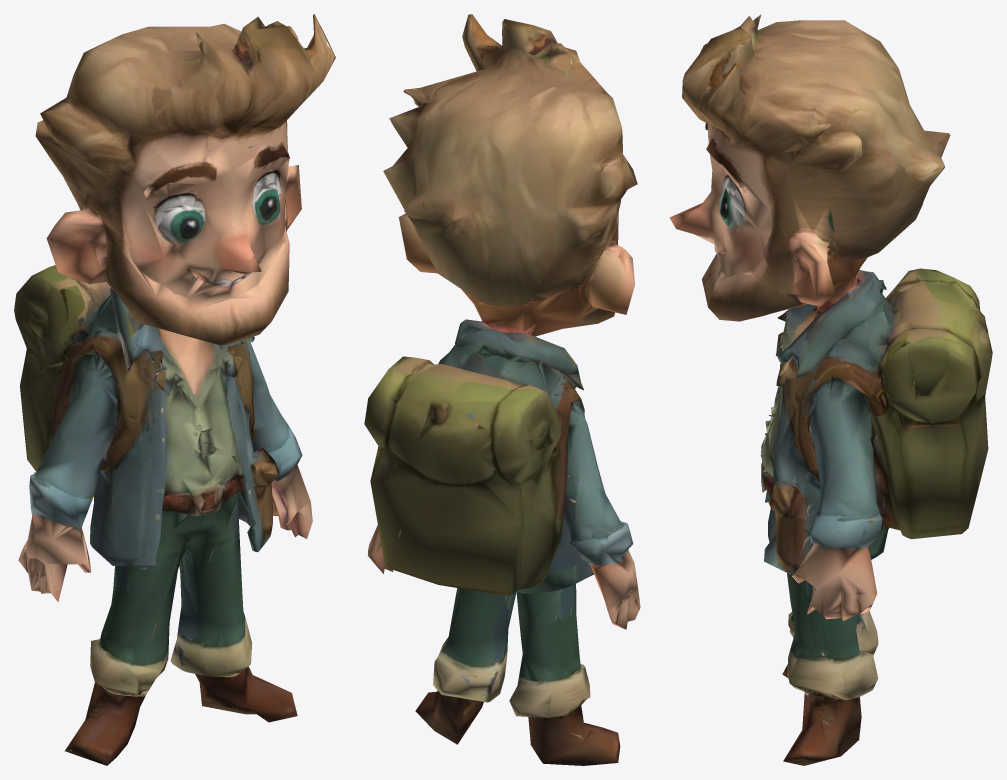
File: user-avator.glb
The picture shows the model from 3 angles, left to right: view 1: azimuth 30°, elevation 25°; view 2: azimuth 150°, elevation 25°; view 3: azimuth 270°, elevation 25°; orthographic projection. The views are drawn at different scales.
Visible parts, largest first — view 1: mesh_0; view 2: mesh_0; view 3: mesh_0.
Part boxes in pixels (x1=…): mesh_0: x1=14, y1=14, x2=335, y2=765; mesh_0: x1=364, y1=14, x2=640, y2=765; mesh_0: x1=669, y1=14, x2=992, y2=765.
Bounding box in the file's own units: 0.7273 × 1.9 × 0.7886.
Materials: 1 (1 with a texture image).
